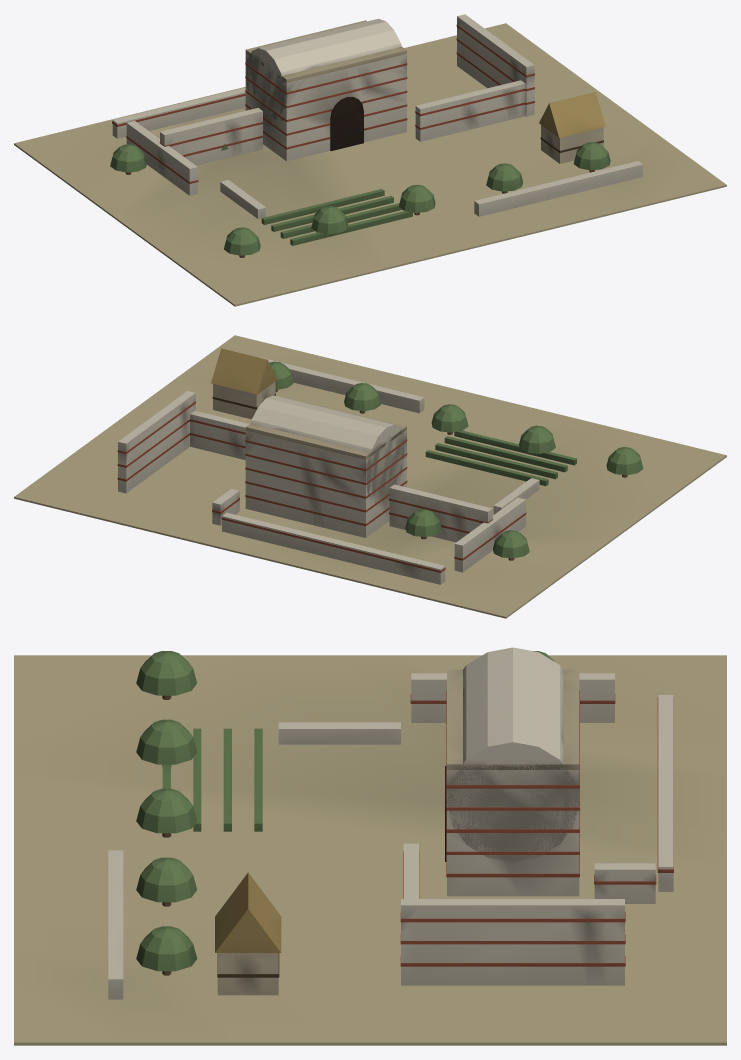
The model's file is cluny-ruins.glb.
3 renders of one model, top to bottom at view 1: azimuth 30°, elevation 25°; view 2: azimuth 150°, elevation 25°; view 3: azimuth 270°, elevation 25°, orthographic. The views are drawn at different scales.
Visible parts, largest first — view 1: p0_frigidarium, p1_ruins; view 2: p0_frigidarium, p1_ruins; view 3: p0_frigidarium, p1_ruins.
Boxes of the visible parts, <box> form: p0_frigidarium: <box>14,18,726,306</box>; p1_ruins: <box>110,14,642,257</box>; p0_frigidarium: <box>14,335,726,618</box>; p1_ruins: <box>117,348,643,584</box>; p0_frigidarium: <box>14,647,726,1045</box>; p1_ruins: <box>108,651,673,999</box>.
Size of the model in its own units: 90 by 17 by 70.
